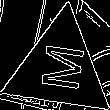M_W: (33, 41, 86, 94)
